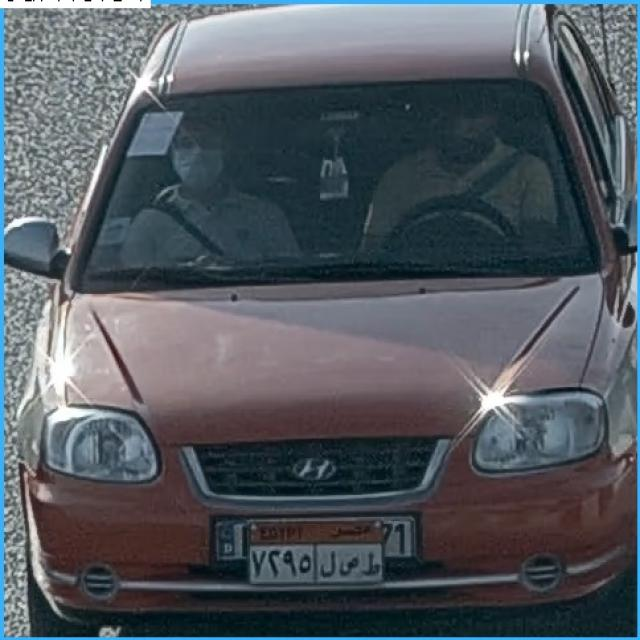windshield: (69, 92, 606, 279)
